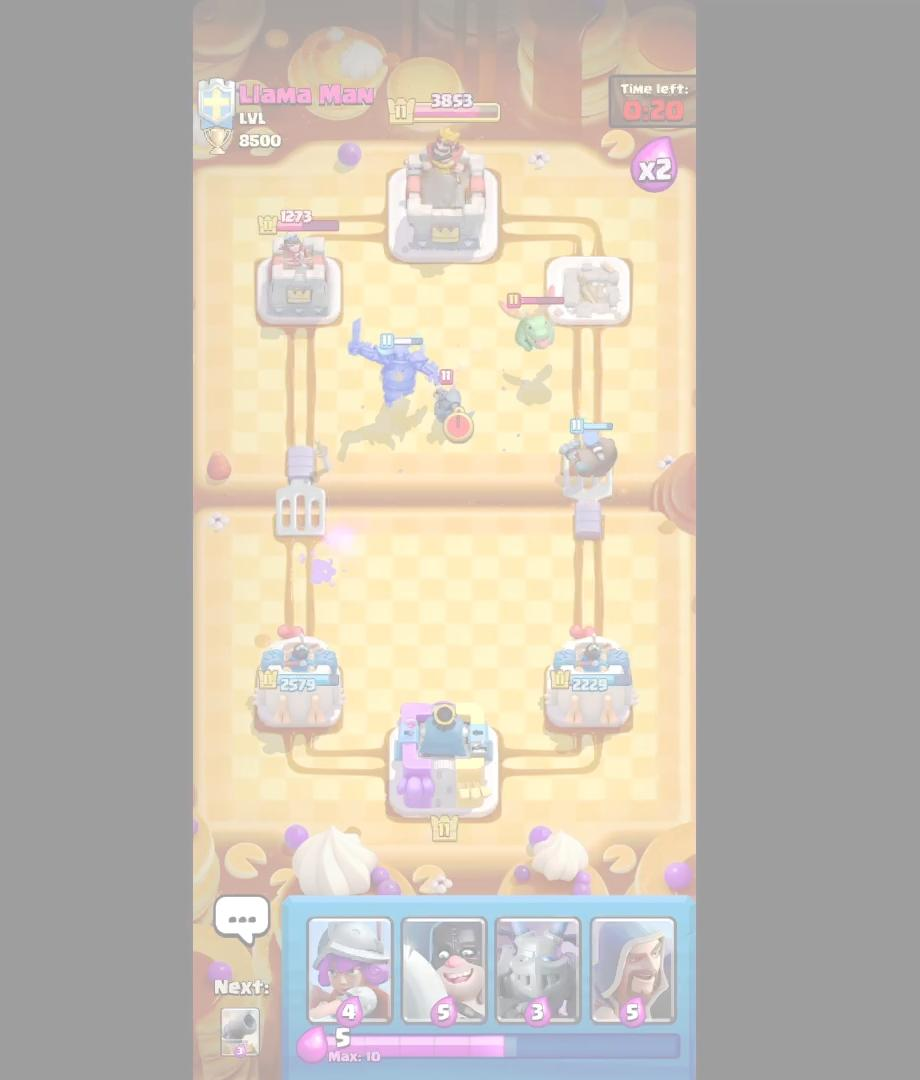Baby Dragon: (497, 288, 569, 353)
Mini Pekka: (428, 367, 479, 438)
